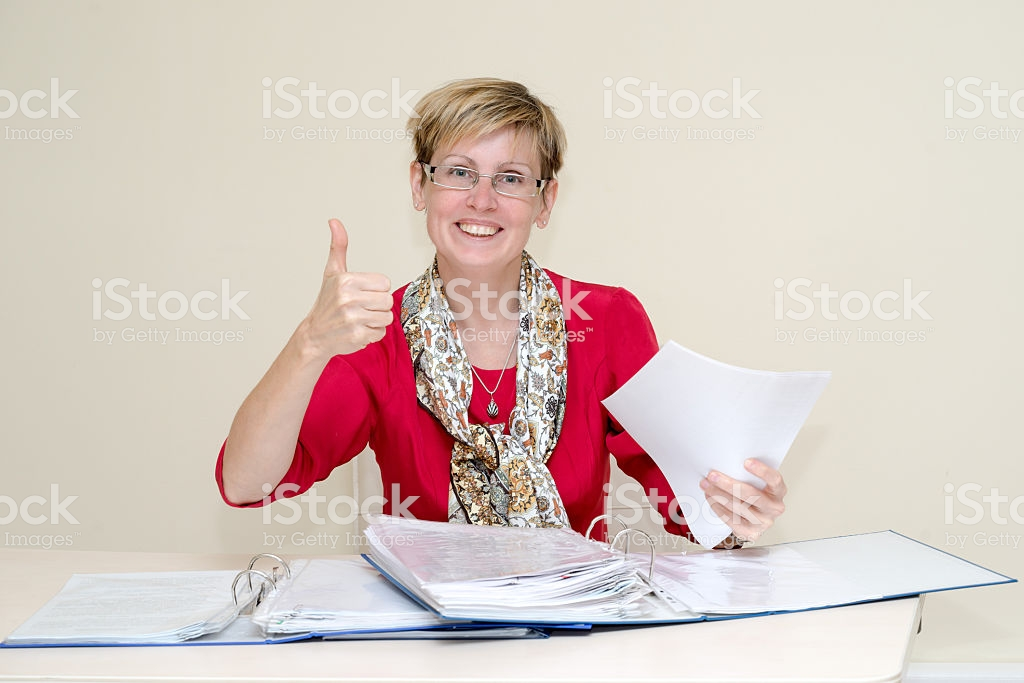thumbsup: (317, 217, 396, 355)
